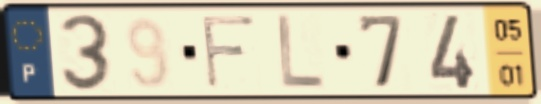3: (56, 11, 115, 94)
4: (426, 10, 481, 93)
7: (355, 12, 409, 92)
9: (124, 14, 173, 91)
F: (198, 13, 259, 92)
L: (275, 12, 328, 93)
